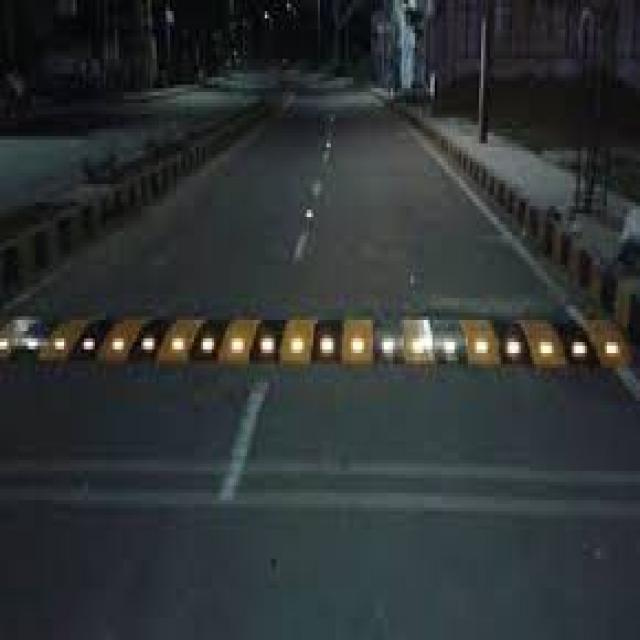Marked Bump: (33, 303, 615, 390)
